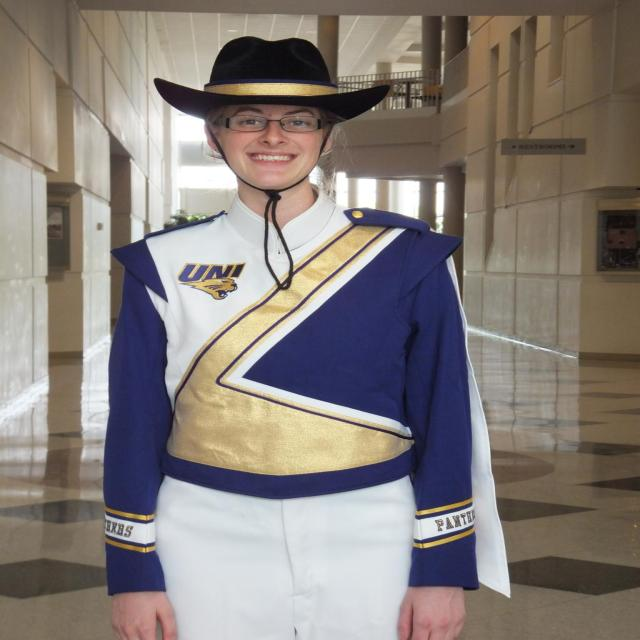Face: (200, 87, 346, 192)
